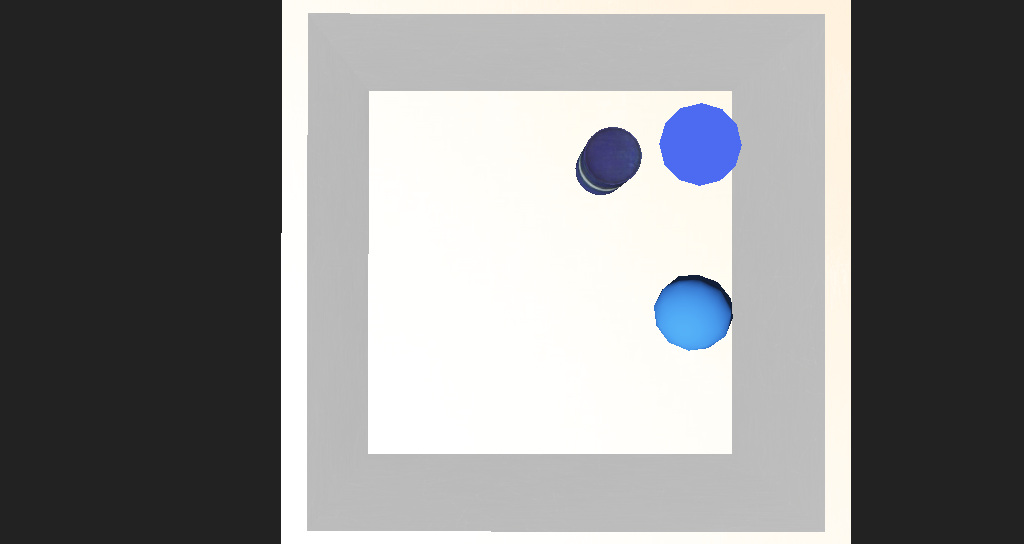cone: (529, 186, 576, 224)
cylinder: (586, 172, 653, 220)
sphere: (586, 267, 653, 315)
